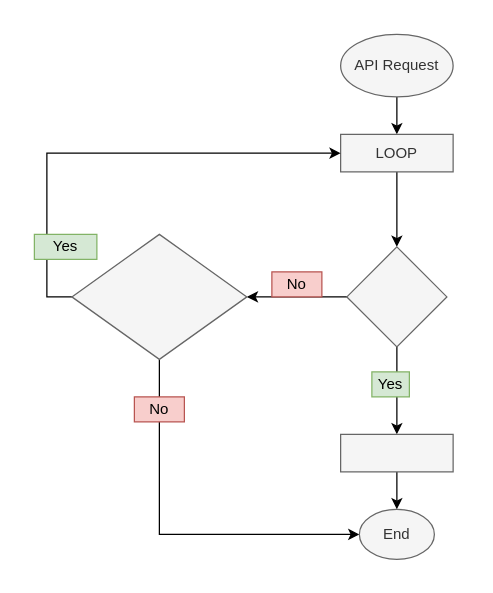
The diagram is 493 pixels wide and 593 high, and some of its shapes have lost their labels. Here are the shapes that lost their labels. From the top down, the box of each, then its label:
(71, 233, 247, 359): i < attempts_count
(346, 246, 447, 347): Success
(339, 433, 453, 472): Break loop
